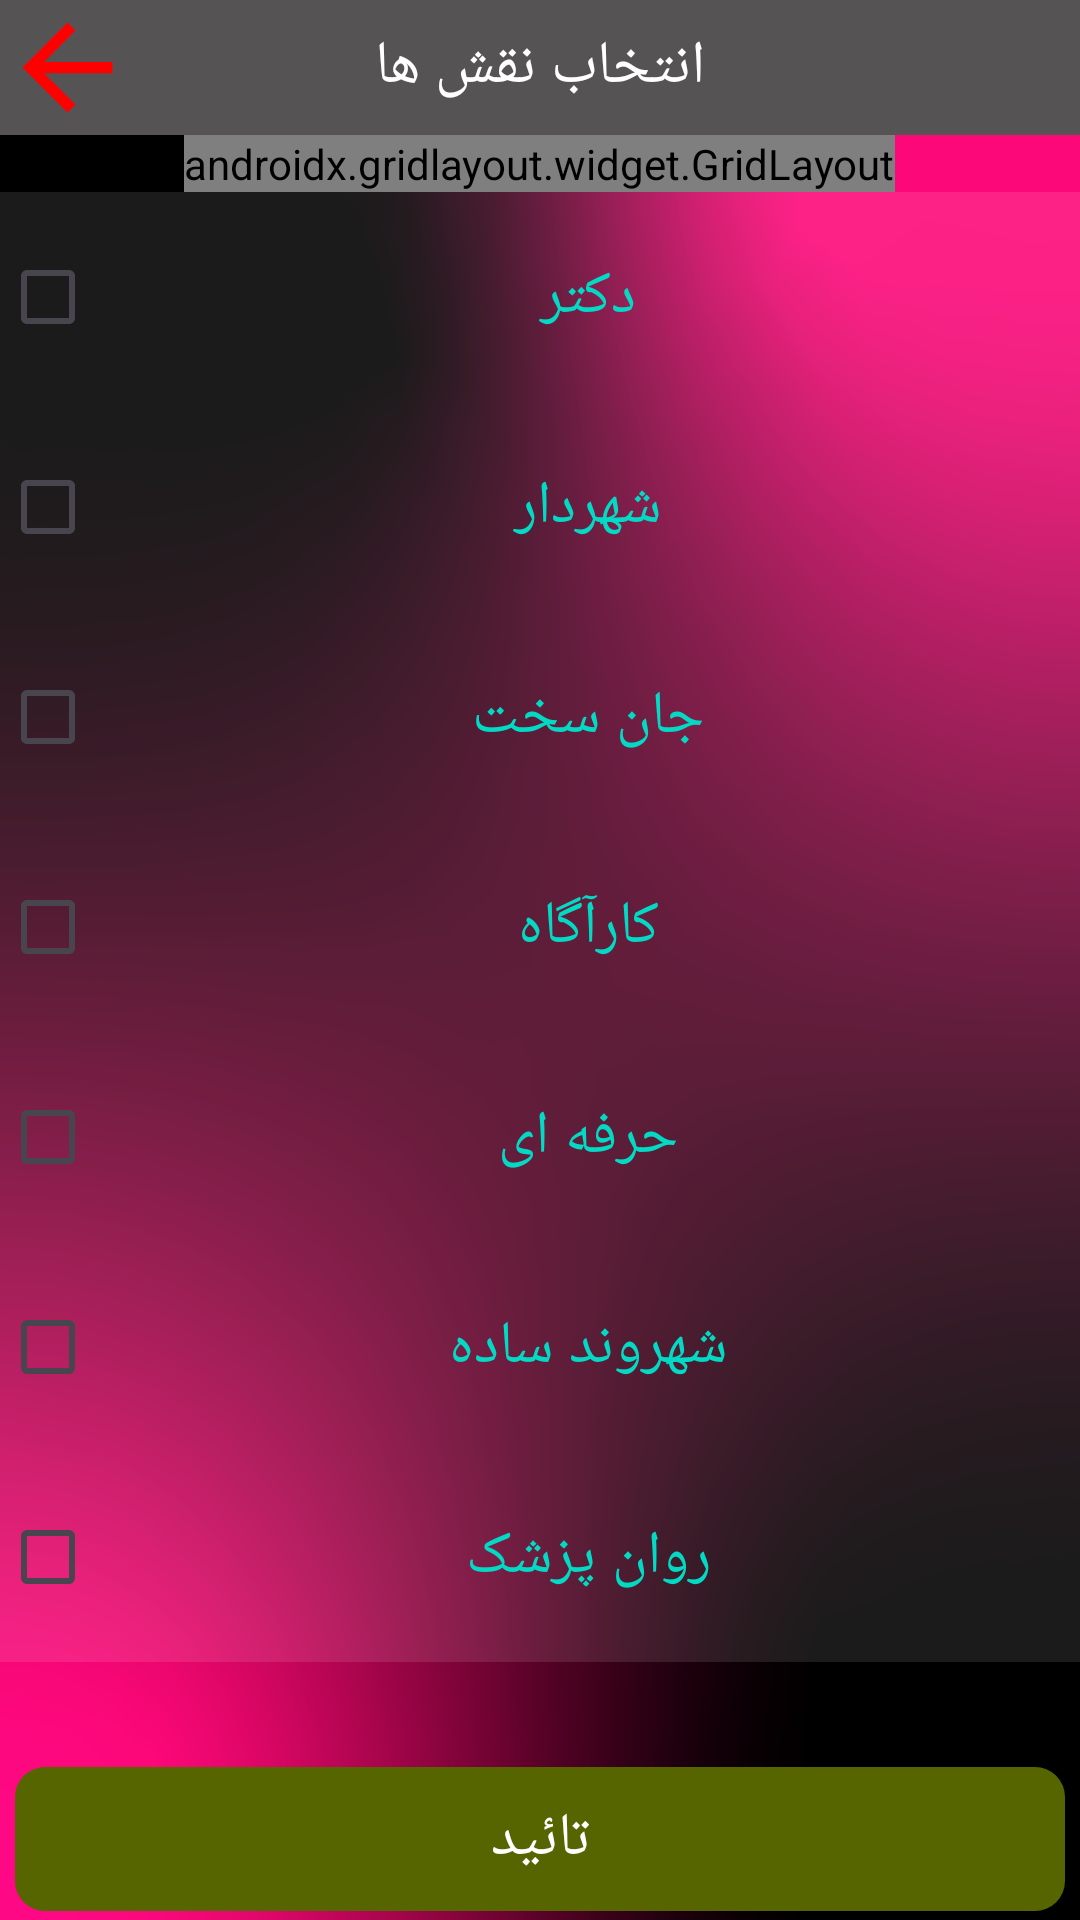

Icons on this 1080 × 1920 Android screen, each with the point to tap as (x,y):
برگشت: (67,67)
